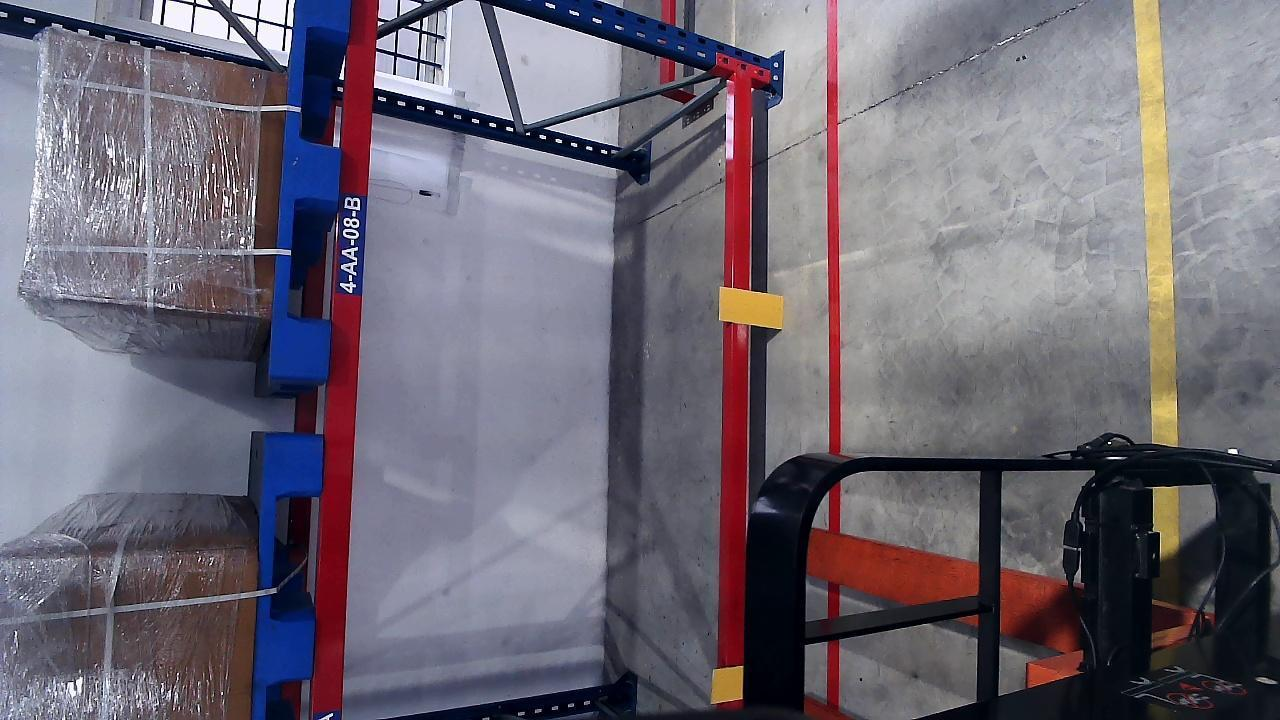red_line: (822, 21, 844, 421)
yellow_line: (1134, 0, 1180, 449)
